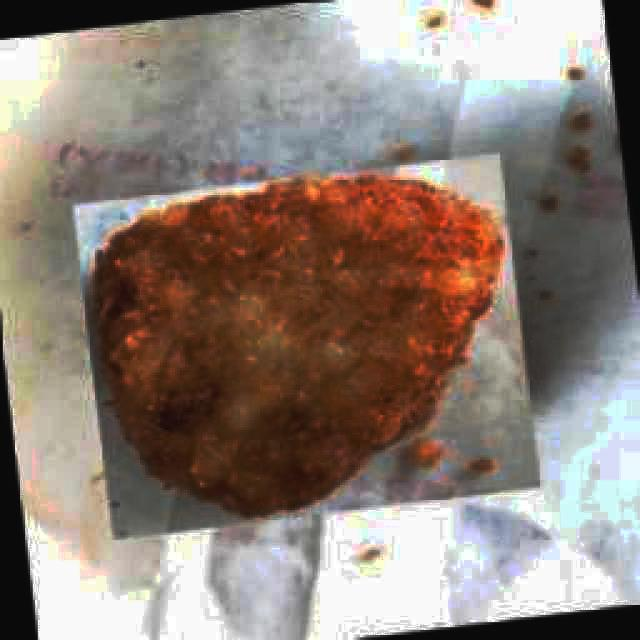Hashbrown: (90, 180, 501, 512)
